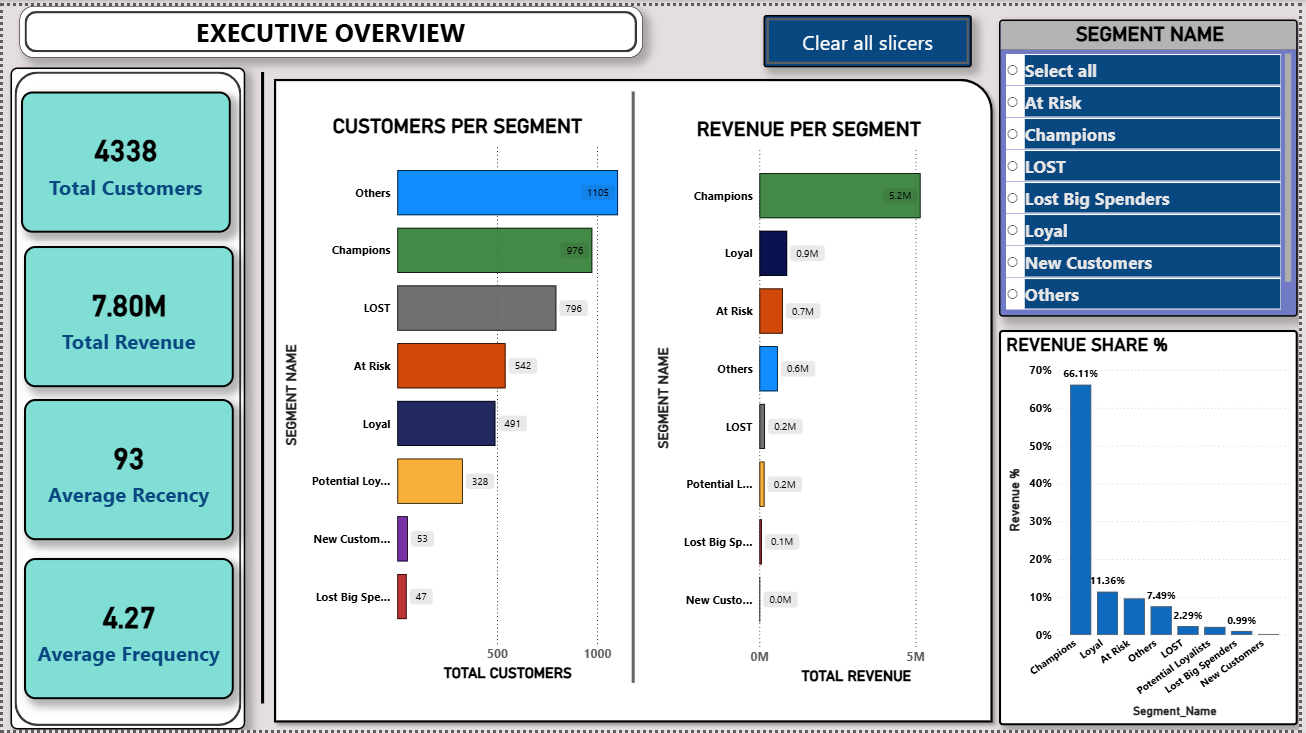

Layout of this report page (visuals, bound fields, positions):
{"tool":"powerbi","page":{"name":"Executive Overview","canvas":[1700,950],"ordinal":0},"visuals":[{"type":"shape","box":[20.8,0,817.7,68.1],"z":0},{"type":"shape","box":[10.1,80.4,307.7,868.8],"z":1000},{"type":"card","fields":{"Values":["rfm_final.Total Customers"]},"box":[24.1,112.6,275.5,185],"z":2000},{"type":"card","fields":{"Values":["rfm_final.Total Revenue"]},"box":[28.2,315.7,275.5,185],"z":3000},{"type":"card","fields":{"Values":["rfm_final.Average Recency"]},"box":[28.2,514.8,275.5,185],"z":4000},{"type":"card","fields":{"Values":["rfm_final.Average Frequency"]},"box":[28.2,724,275.5,185],"z":5000},{"type":"shape","box":[824.7,125.2,13,598.6],"z":6000},{"type":"shape","box":[345.9,86.5,961.3,862.7],"z":7000},{"type":"clusteredBarChart","title":"CUSTOMERS PER SEGMENT","fields":{"Y":["rfm_final.Total Customers"],"Category":["rfm_final.Segment_Name"]},"box":[362,140.8,468.6,748.1],"z":8000},{"type":"shape","box":[333.8,86.5,12.1,828.6],"z":9000},{"type":"clusteredBarChart","title":"REVENUE PER SEGMENT","fields":{"Category":["rfm_final.Segment_Name"],"Y":["rfm_final.Total Revenue"]},"box":[850.7,144.8,414.3,748.1],"z":10000},{"type":"shape","box":[814.5,112.6,24.1,776.3],"z":11000},{"type":"clusteredColumnChart","title":"REVENUE SHARE % ","fields":{"Category":["rfm_final.Segment_Name"],"Y":["rfm_final.Revenue %"]},"box":[1307.2,424.3,392.2,518.9],"z":12000},{"type":"listSlicer","title":"SEGMENT NAME","fields":{"Values":["rfm_final.Segment_Name"]},"box":[1307.2,18.1,392.2,390.1],"z":13000},{"type":"actionButton","box":[997.5,12.1,273.5,68.4],"z":14000}]}

Visuals, with their boxes in screenshot pixels (x1, y1, x2, y2), scaled from the page's 1700x950 canvas onto the 1306x733 screenshot:
shape: x1=16, y1=0, x2=644, y2=53
shape: x1=8, y1=62, x2=244, y2=732
card - rfm_final.Total Customers: x1=19, y1=87, x2=230, y2=230
card - rfm_final.Total Revenue: x1=22, y1=244, x2=233, y2=386
card - rfm_final.Average Recency: x1=22, y1=397, x2=233, y2=540
card - rfm_final.Average Frequency: x1=22, y1=559, x2=233, y2=701
shape: x1=634, y1=97, x2=644, y2=558
shape: x1=266, y1=67, x2=1004, y2=732
"CUSTOMERS PER SEGMENT" clusteredBarChart: x1=278, y1=109, x2=638, y2=686
shape: x1=256, y1=67, x2=266, y2=706
"REVENUE PER SEGMENT" clusteredBarChart: x1=654, y1=112, x2=972, y2=689
shape: x1=626, y1=87, x2=644, y2=686
"REVENUE SHARE % " clusteredColumnChart: x1=1004, y1=327, x2=1305, y2=728
"SEGMENT NAME" listSlicer: x1=1004, y1=14, x2=1305, y2=315
actionButton: x1=766, y1=9, x2=976, y2=62
